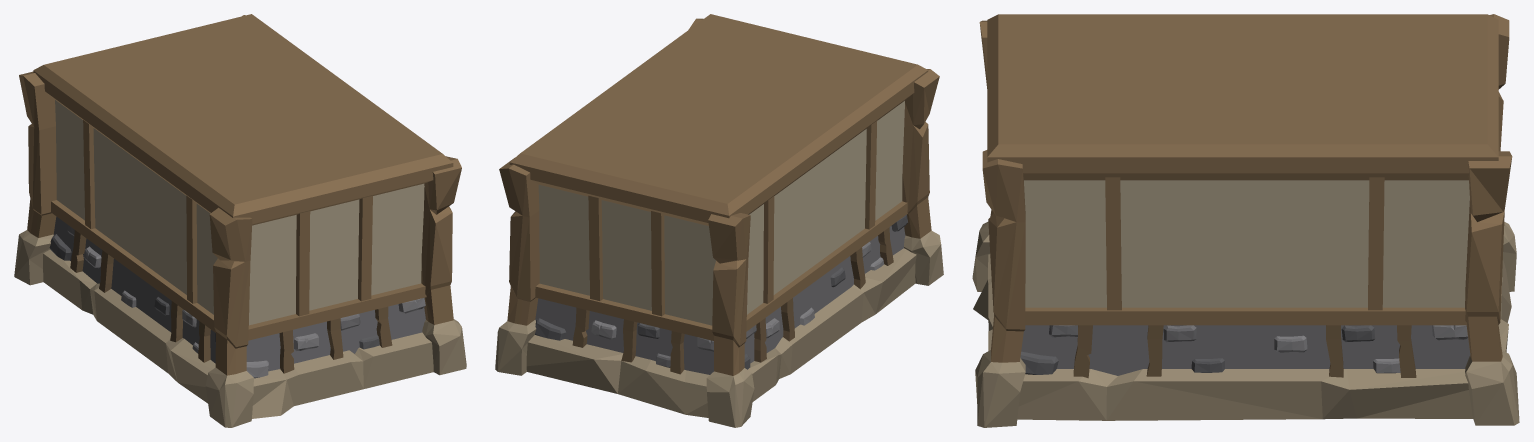
File: SM_Bld_House_Foundation_07.gltf
3 views of the same model, side by side, from view 1: azimuth 30°, elevation 25°; view 2: azimuth 150°, elevation 25°; view 3: azimuth 270°, elevation 25° (orthographic). The views are drawn at different scales.
Visible parts, largest first — view 1: SM_Bld_House_Foundation_07; view 2: SM_Bld_House_Foundation_07; view 3: SM_Bld_House_Foundation_07.
Boxes of the visible parts, <box> form: SM_Bld_House_Foundation_07: <box>14,14,466,427</box>; SM_Bld_House_Foundation_07: <box>495,14,943,427</box>; SM_Bld_House_Foundation_07: <box>972,14,1519,427</box>.
Bounding box in the file's own units: 3.43 × 2.81 × 5.12.
1 material, 1 textured.
